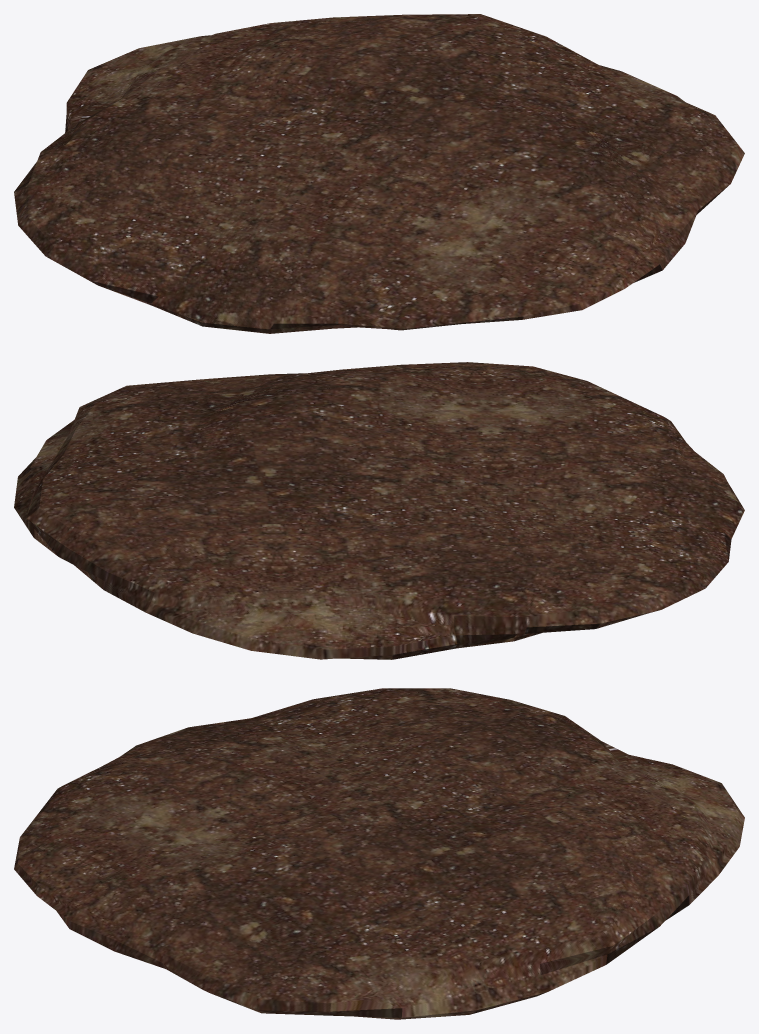
Rendered from hamburger2.FBX.
3 views of the same model, one above another, from view 1: azimuth 30°, elevation 25°; view 2: azimuth 150°, elevation 25°; view 3: azimuth 270°, elevation 25° (orthographic).
Parts seen in each view (by area): view 1: hamburger2; view 2: hamburger2; view 3: hamburger2.
Boxes of the visible parts, <box> form: hamburger2: <box>14,14,744,333</box>; hamburger2: <box>14,362,744,659</box>; hamburger2: <box>14,688,744,1019</box>.
Size of what is drawn, in the model's own units: 119 by 117 by 15.53.
